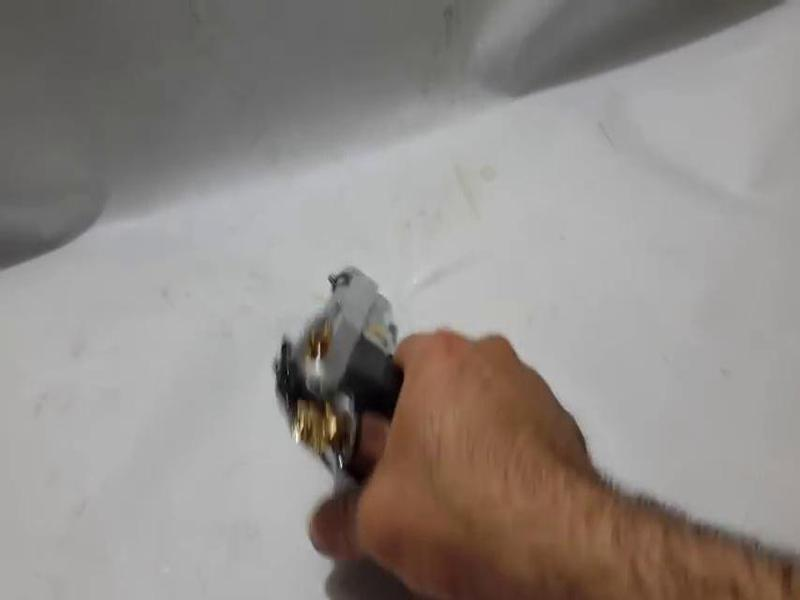Pistola: (267, 253, 484, 529)
